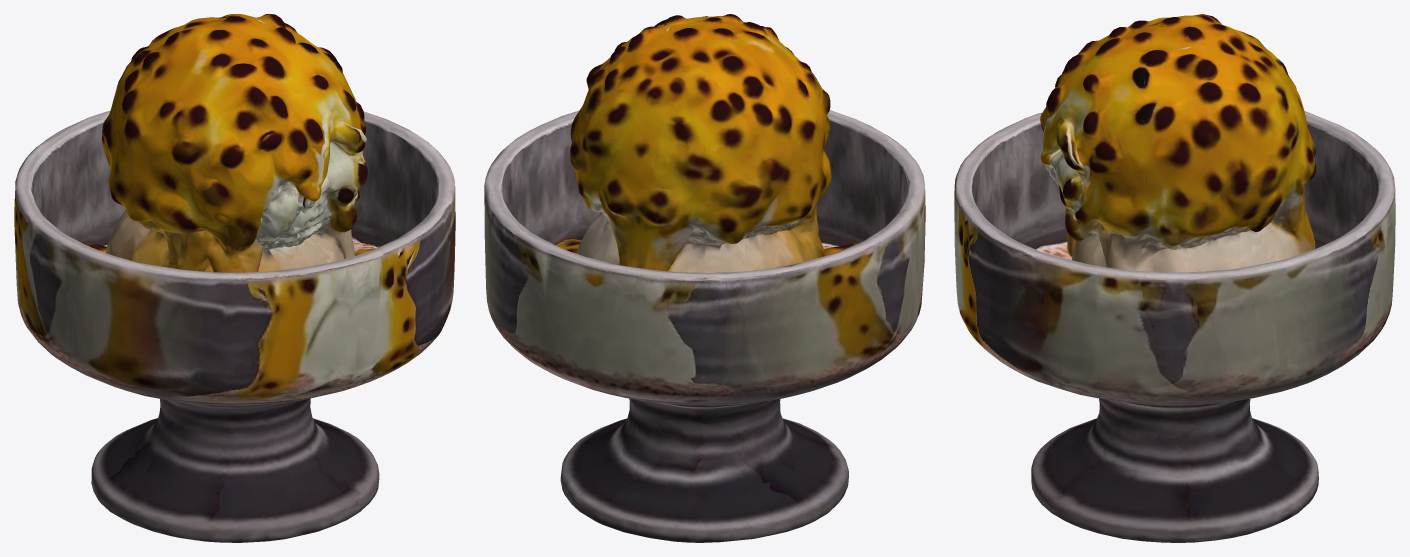
File: pandan-custard-lite.glb
The picture shows the model from 3 angles, left to right: view 1: azimuth 30°, elevation 25°; view 2: azimuth 150°, elevation 25°; view 3: azimuth 270°, elevation 25°; orthographic projection.
Visible parts, largest first — view 1: wayan_dish; view 2: wayan_dish; view 3: wayan_dish.
Boxes of the visible parts, x1,y1,x2,y2 form: wayan_dish: [14, 14, 455, 542]; wayan_dish: [484, 14, 925, 542]; wayan_dish: [954, 14, 1395, 542].
Bounding box in the file's own units: 0.1312 × 0.15 × 0.1311.
1 material, 1 textured.
